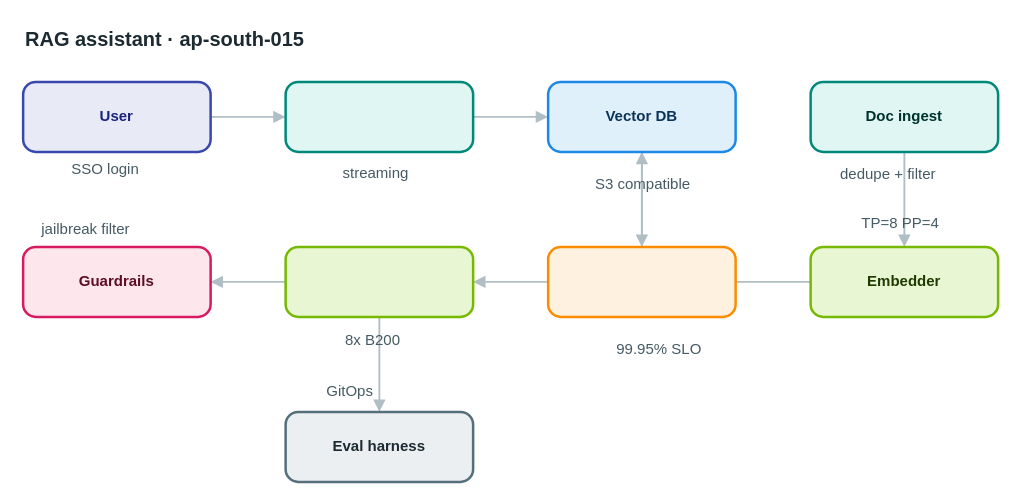
Some shapes in this 1020 by 504 pixel diagram are drawn without their labels. Each missing label, with the box of its shape:
Nemotron: (284, 245, 474, 318)
Reranker: (546, 245, 736, 318)
Retriever: (284, 80, 474, 152)
